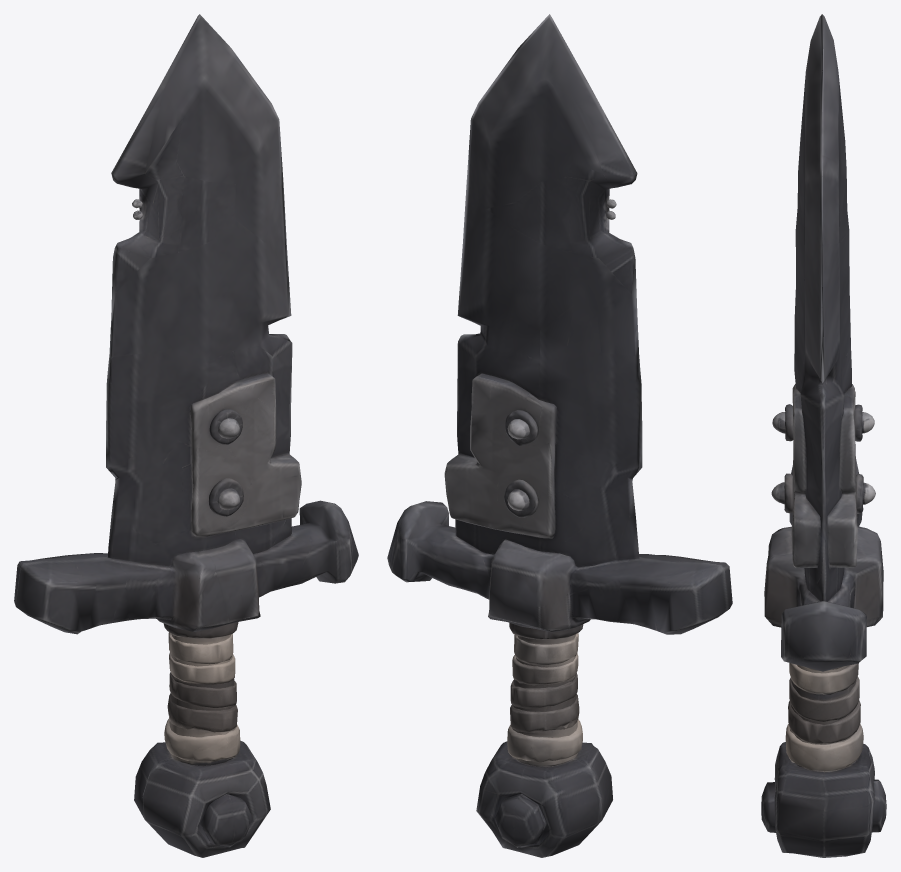
Rendered from 04_补丁钝剑.fbx.
The picture shows the model from 3 angles, left to right: view 1: azimuth 30°, elevation 25°; view 2: azimuth 150°, elevation 25°; view 3: azimuth 270°, elevation 25°; orthographic projection.
Visible parts, largest first — view 1: Mesh_0; view 2: Mesh_0; view 3: Mesh_0.
Part boxes in pixels (x1,y1,x2,y2): Mesh_0: (14,14,358,857); Mesh_0: (387,14,732,857); Mesh_0: (761,14,886,857).
Bounding box in the file's own units: 85.49 × 200 × 27.5.
1 material, 1 textured.
